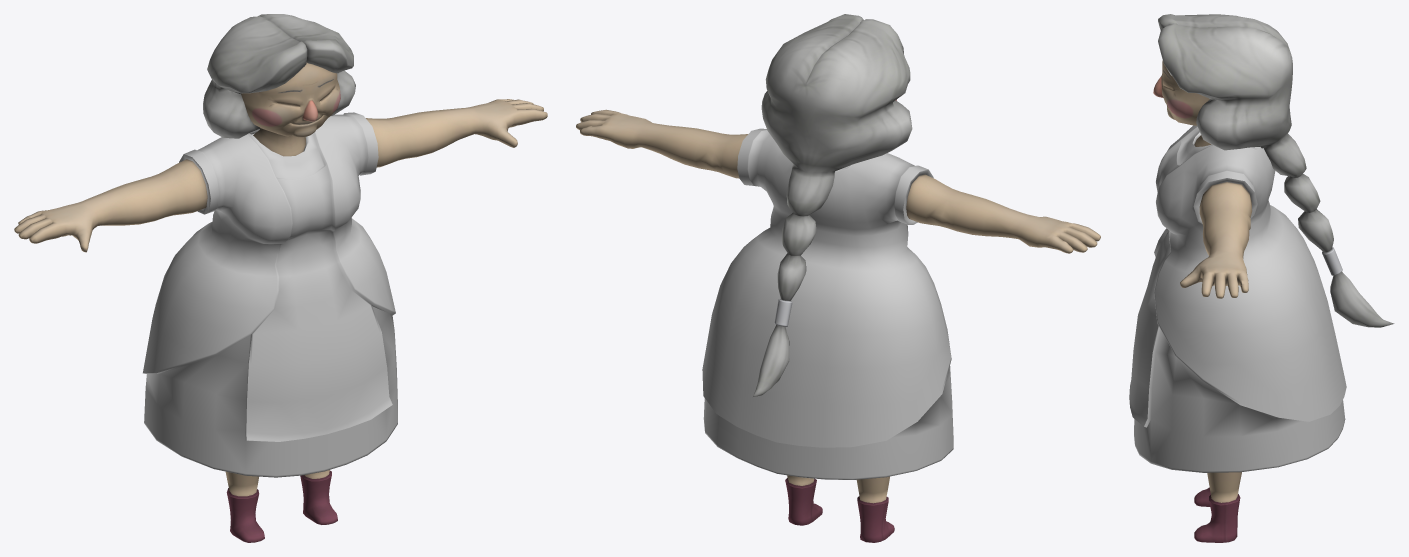
File: kookum.fbx
3 views of the same model, side by side, from view 1: azimuth 30°, elevation 25°; view 2: azimuth 150°, elevation 25°; view 3: azimuth 270°, elevation 25° (orthographic).
Visible parts, largest first — view 1: kookum; view 2: kookum; view 3: kookum.
Part boxes in pixels (bbox=[...]): kookum: bbox=[14, 14, 547, 542]; kookum: bbox=[576, 14, 1100, 542]; kookum: bbox=[1129, 14, 1394, 542].
Bounding box in the file's own units: 88.13 × 80.26 × 38.8.
